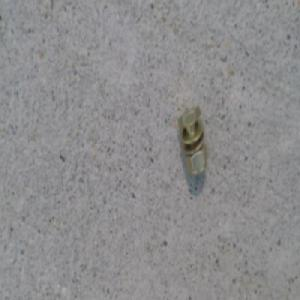BoltNutSet: (176, 104, 205, 176)
